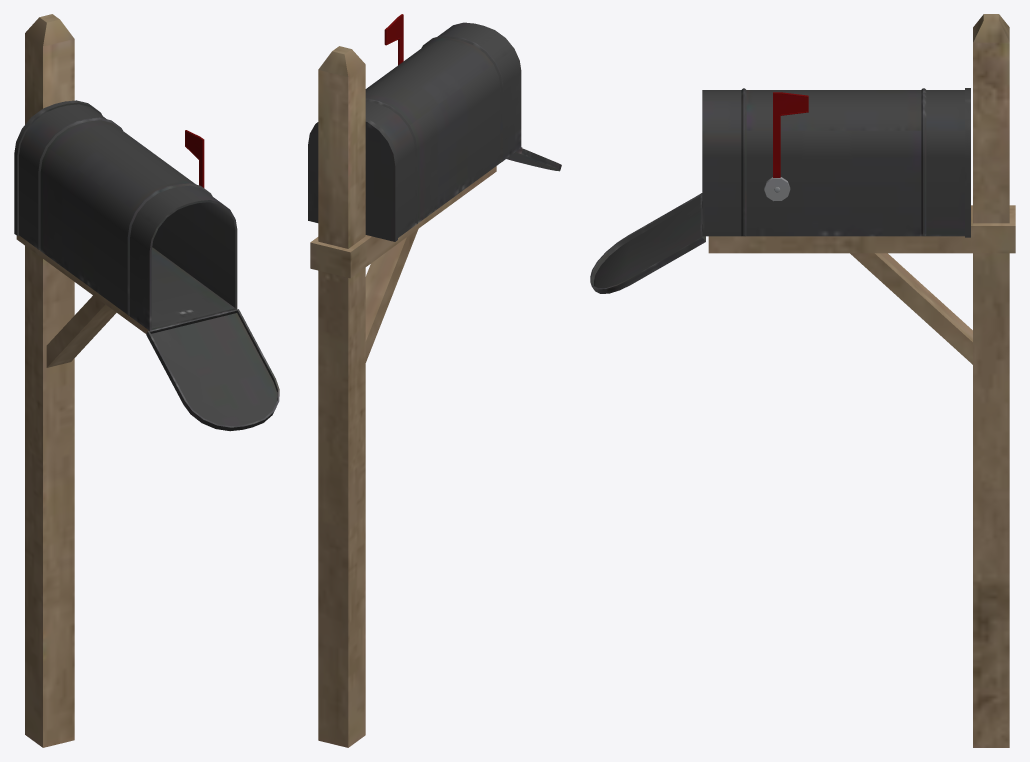
The model's file is mailbox.glb.
The picture shows the model from 3 angles, left to right: view 1: azimuth 30°, elevation 25°; view 2: azimuth 150°, elevation 25°; view 3: azimuth 270°, elevation 25°; orthographic projection. The views are drawn at different scales.
Parts seen in each view (by area): view 1: Flag; view 2: Flag; view 3: Flag.
Part boxes in pixels (left/top/right/bottom): Flag: left=14, top=14, right=279, bottom=747; Flag: left=308, top=14, right=561, bottom=747; Flag: left=590, top=14, right=1015, bottom=747.
Bounding box in the file's own units: 0.5112 × 3.74 × 2.
Materials: 1 (1 with a texture image).
